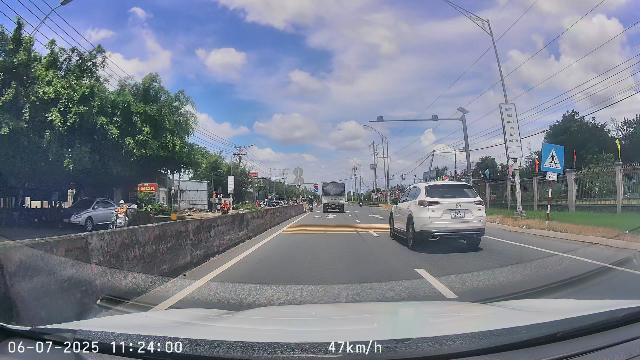423a-duong-nguoi-di-bo-sang-ngang-1: (541, 142, 564, 174)
